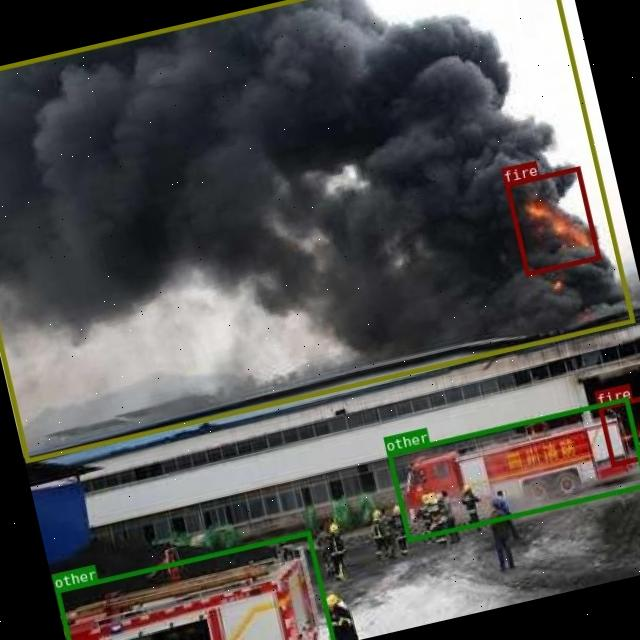fire: (504, 166, 600, 276), (597, 390, 640, 465)
smoke: (0, 0, 634, 461)
